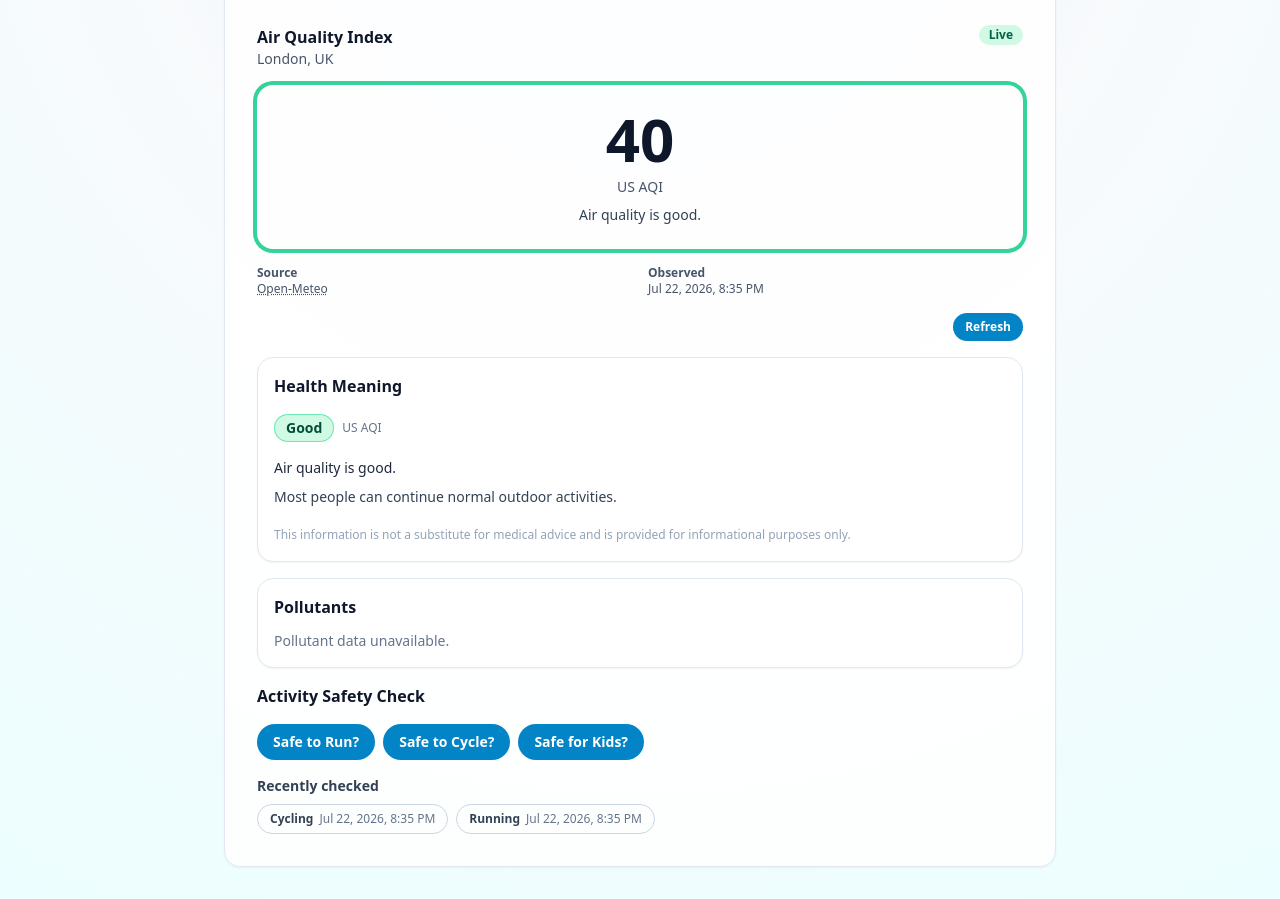
Test case: Activity Safety Check – Kids golden path › AQI 40: tapping Safe for Kids? shows Go ahead
(page scrolled)
Check: the button "Safe to Run?" is shown, box [257,724,375,760]
Click the button "Safe for Kids?".
click(581, 742)  # box [518,724,644,760]
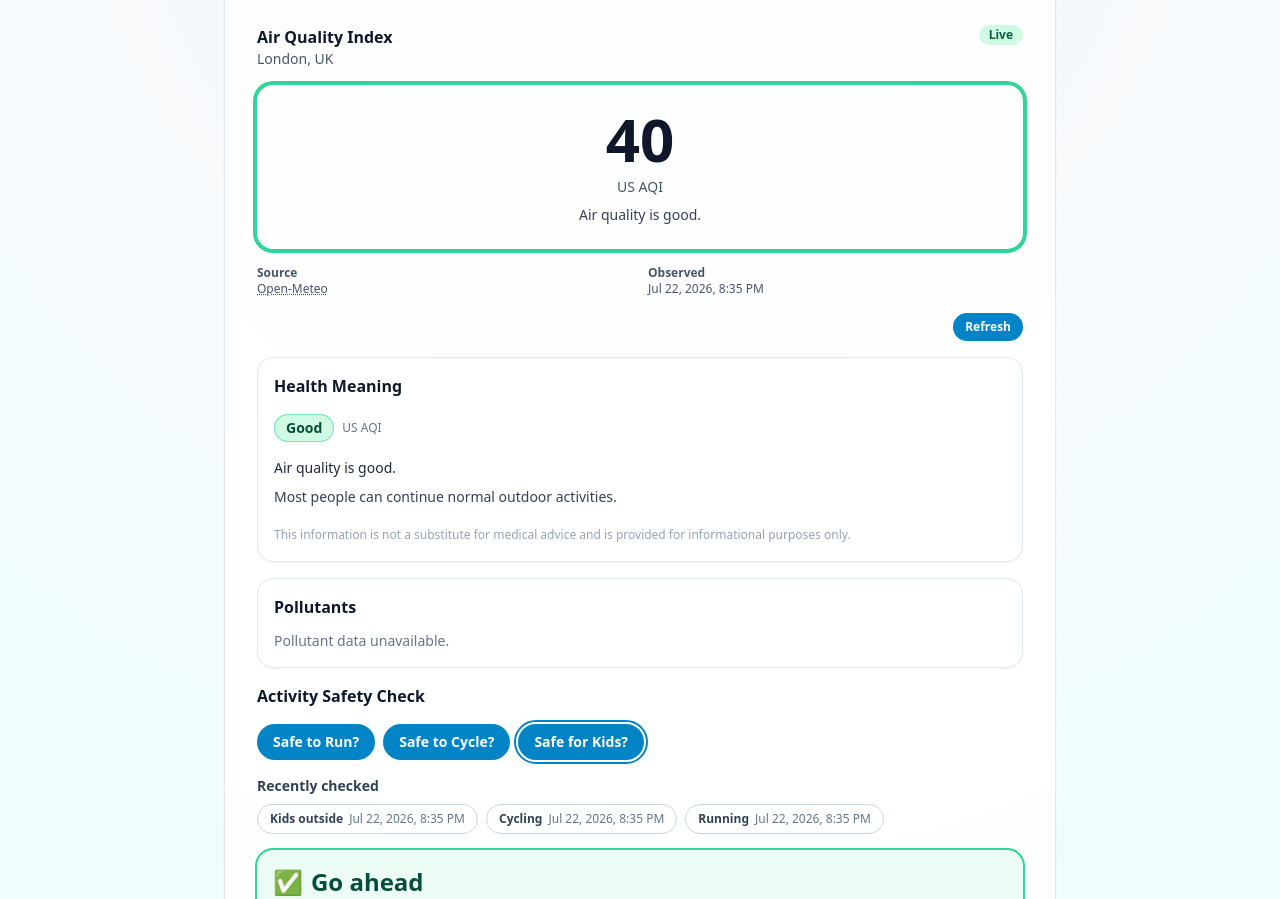
Check: the text "Go ahead" is shown, box [311,866,424,898]
